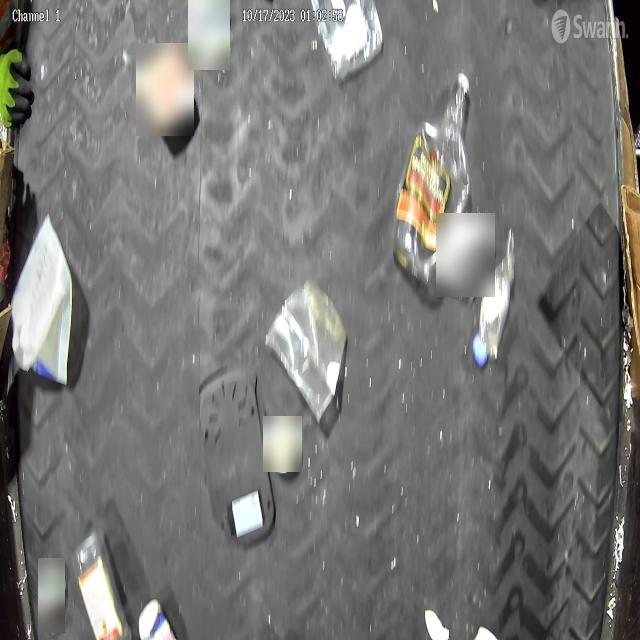plastic_bottle: (395, 72, 469, 282), (74, 530, 132, 640), (474, 225, 518, 367)
